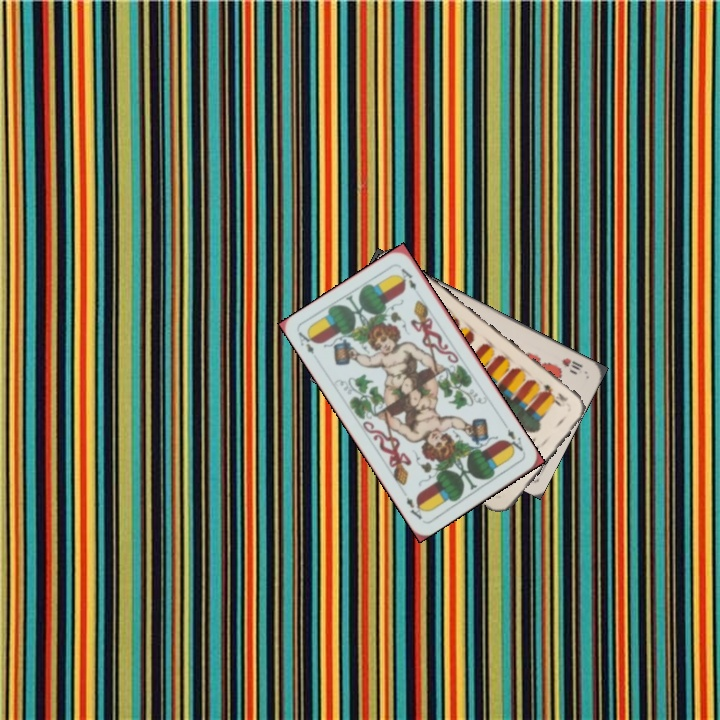E10: (539, 380, 571, 408)
EA: (500, 420, 526, 456), (294, 327, 319, 357)
H10: (558, 354, 585, 377)
